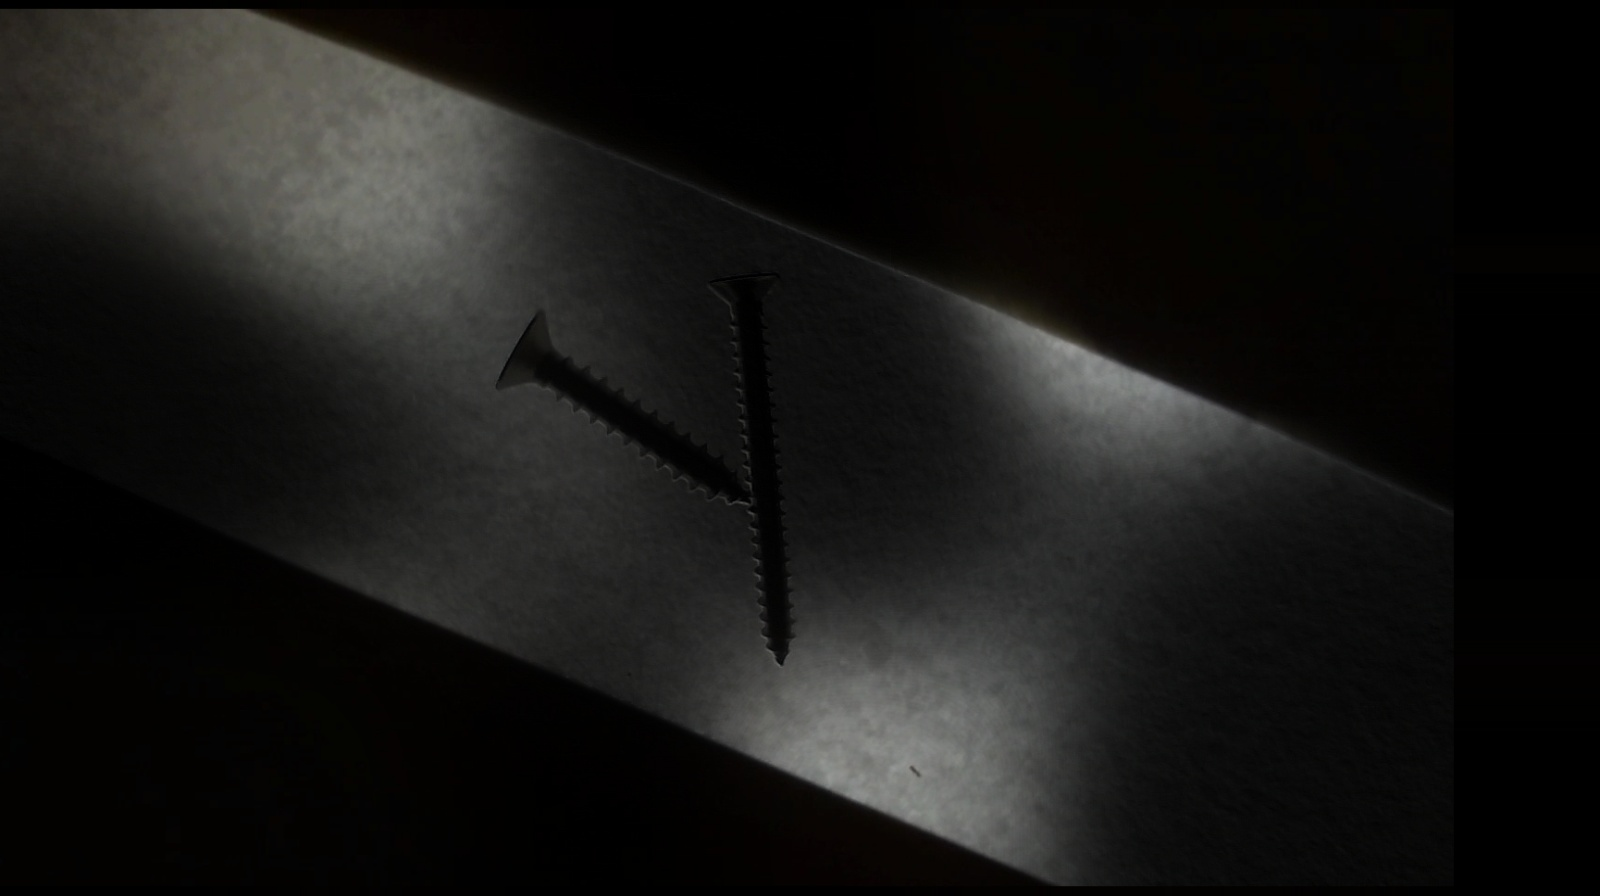S001: (485, 308, 756, 505)
S002: (703, 254, 795, 664)
